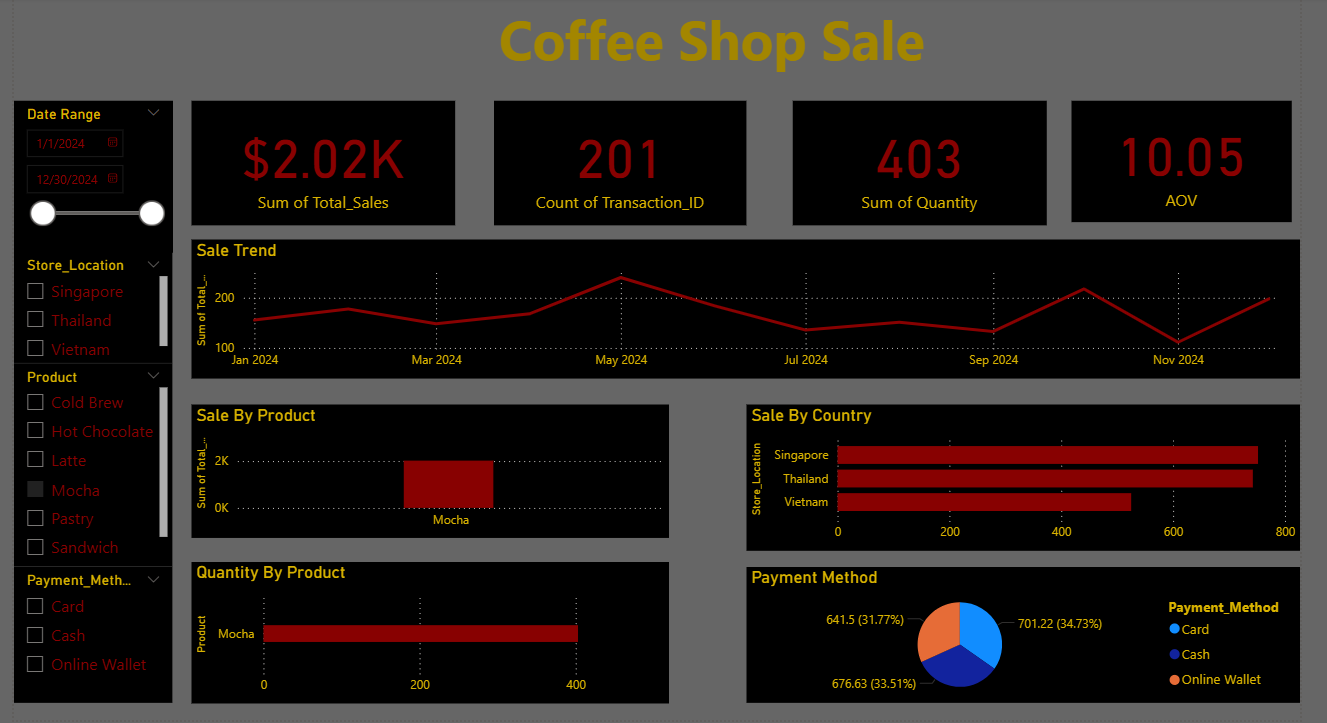

The dashboard page shown, as its layout file describes it:
{"tool":"powerbi","page":{"name":"Page 1","canvas":[1280,720],"ordinal":0},"visuals":[{"type":"card","fields":{"Values":["Sum(Sheet1.Total_Sales)"]},"box":[176.6,103.2,262.5,124.4],"z":0},{"type":"card","fields":{"Values":["CountNonNull(Sheet1.Transaction_ID)"]},"box":[477.7,103.2,251.3,124.4],"z":1000},{"type":"card","fields":{"Values":["Sum(Sheet1.Quantity)"]},"box":[775,103.2,252.5,124.4],"z":2000},{"type":"card","fields":{"Values":["Sale.AOV"]},"box":[1052.4,103.2,218.9,120.7],"z":3000},{"type":"lineChart","title":"Sale Trend","fields":{"Category":["Sale.Date.Variation.Date Hierarchy.Year","Sale.Date.Variation.Date Hierarchy.Month"],"Y":["Sum(Sale.Total_Sales)"]},"box":[176.6,241.3,1103.4,138.1],"z":4000},{"type":"clusteredBarChart","title":"Sale By Country","fields":{"Category":["Sale.Store_Location"],"Y":["Sum(Sale.Total_Sales)"]},"box":[729,405.5,551.1,145.5],"z":5000},{"type":"clusteredColumnChart","title":"Sale By Product","fields":{"Category":["Sale.Product"],"Y":["Sum(Sale.Total_Sales)"]},"box":[176.6,405.5,475.2,133.1],"z":6000},{"type":"pieChart","title":"Payment Method","fields":{"Category":["Sale.Payment_Method"],"Y":["Sum(Sale.Total_Sales)"]},"box":[729,567.2,551.1,135.6],"z":7000},{"type":"clusteredBarChart","title":"Quantity By Product","fields":{"Category":["Sale.Product"],"Y":["Sum(Sale.Quantity)"]},"box":[176.6,562.3,475.2,140.6],"z":8000},{"type":"slicer","fields":{"Values":["Sale.Date"]},"box":[0,103.2,158,150.5],"z":13000},{"type":"slicer","fields":{"Values":["Sale.Store_Location"]},"box":[0,253.8,158,110.7],"z":13001},{"type":"slicer","fields":{"Values":["Sale.Product"]},"box":[0,364.5,158,202.8],"z":13002},{"type":"slicer","fields":{"Values":["Sale.Payment_Method"]},"box":[0,567.2,158,135.6],"z":13003},{"type":"textbox","box":[477.7,0,434.1,82.1],"z":13004}]}

Visuals, with their boxes in screenshot pixels (x1, y1, x2, y2):
card - Sum(Sheet1.Total_Sales): 185, 102, 445, 225
card - CountNonNull(Sheet1.Transaction_ID): 483, 102, 732, 225
card - Sum(Sheet1.Quantity): 777, 102, 1027, 225
card - Sale.AOV: 1051, 102, 1268, 221
"Sale Trend" lineChart: 185, 239, 1277, 375
"Sale By Country" clusteredBarChart: 732, 401, 1277, 545
"Sale By Product" clusteredColumnChart: 185, 401, 655, 533
"Payment Method" pieChart: 732, 561, 1277, 695
"Quantity By Product" clusteredBarChart: 185, 556, 655, 695
slicer - Sale.Date: 10, 102, 167, 251
slicer - Sale.Store_Location: 10, 251, 167, 361
slicer - Sale.Product: 10, 361, 167, 561
slicer - Sale.Payment_Method: 10, 561, 167, 695
textbox: 483, 0, 912, 81
